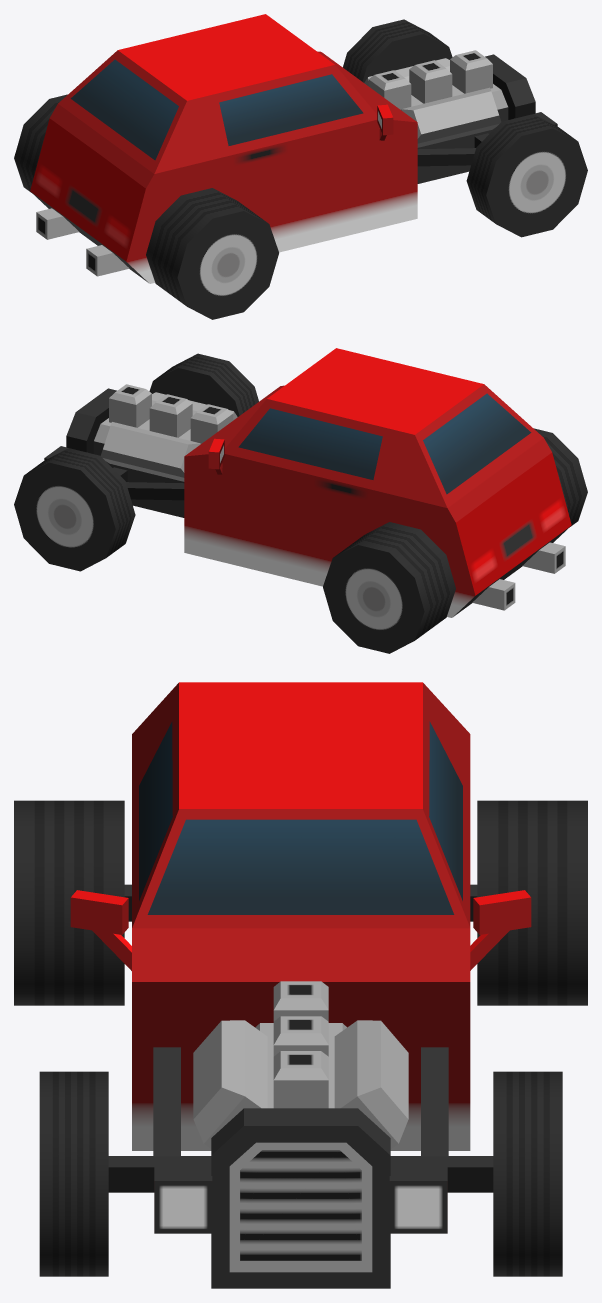
File: Car_254.glb
3 views of the same model, one above another, from view 1: azimuth 30°, elevation 25°; view 2: azimuth 150°, elevation 25°; view 3: azimuth 270°, elevation 25° (orthographic). The views are drawn at different scales.
Parts seen in each view (by area): view 1: Car_254, wheel_3_Car_254_Wheel_2R, wheel_1_Car_254_Wheel_1R, wheel_0_Car_254_Wheel_1L, wheel_2_Car_254_Wheel_2L; view 2: Car_254, wheel_2_Car_254_Wheel_2L, wheel_0_Car_254_Wheel_1L, wheel_1_Car_254_Wheel_1R, wheel_3_Car_254_Wheel_2R; view 3: Car_254, wheel_2_Car_254_Wheel_2L, wheel_3_Car_254_Wheel_2R, wheel_0_Car_254_Wheel_1L, wheel_1_Car_254_Wheel_1R.
Boxes of the visible parts, left/top/right/bottom form: Car_254: left=30, top=14, right=557, bottom=283; wheel_3_Car_254_Wheel_2R: left=146, top=188, right=278, bottom=319; wheel_1_Car_254_Wheel_1R: left=466, top=114, right=587, bottom=237; wheel_0_Car_254_Wheel_1L: left=343, top=19, right=452, bottom=82; wheel_2_Car_254_Wheel_2L: left=14, top=94, right=67, bottom=192; Car_254: left=44, top=348, right=571, bottom=617; wheel_2_Car_254_Wheel_2L: left=323, top=522, right=455, bottom=653; wheel_0_Car_254_Wheel_1L: left=14, top=448, right=135, bottom=571; wheel_1_Car_254_Wheel_1R: left=149, top=353, right=258, bottom=416; wheel_3_Car_254_Wheel_2R: left=534, top=428, right=587, bottom=526; Car_254: left=70, top=682, right=531, bottom=1288; wheel_2_Car_254_Wheel_2L: left=477, top=800, right=587, bottom=1005; wheel_3_Car_254_Wheel_2R: left=14, top=800, right=124, bottom=1005; wheel_0_Car_254_Wheel_1L: left=493, top=1071, right=562, bottom=1276; wheel_1_Car_254_Wheel_1R: left=39, top=1071, right=108, bottom=1276.
Size of the model in its own units: 3.22 by 1.23 by 2.03.
1 material, 1 textured.
